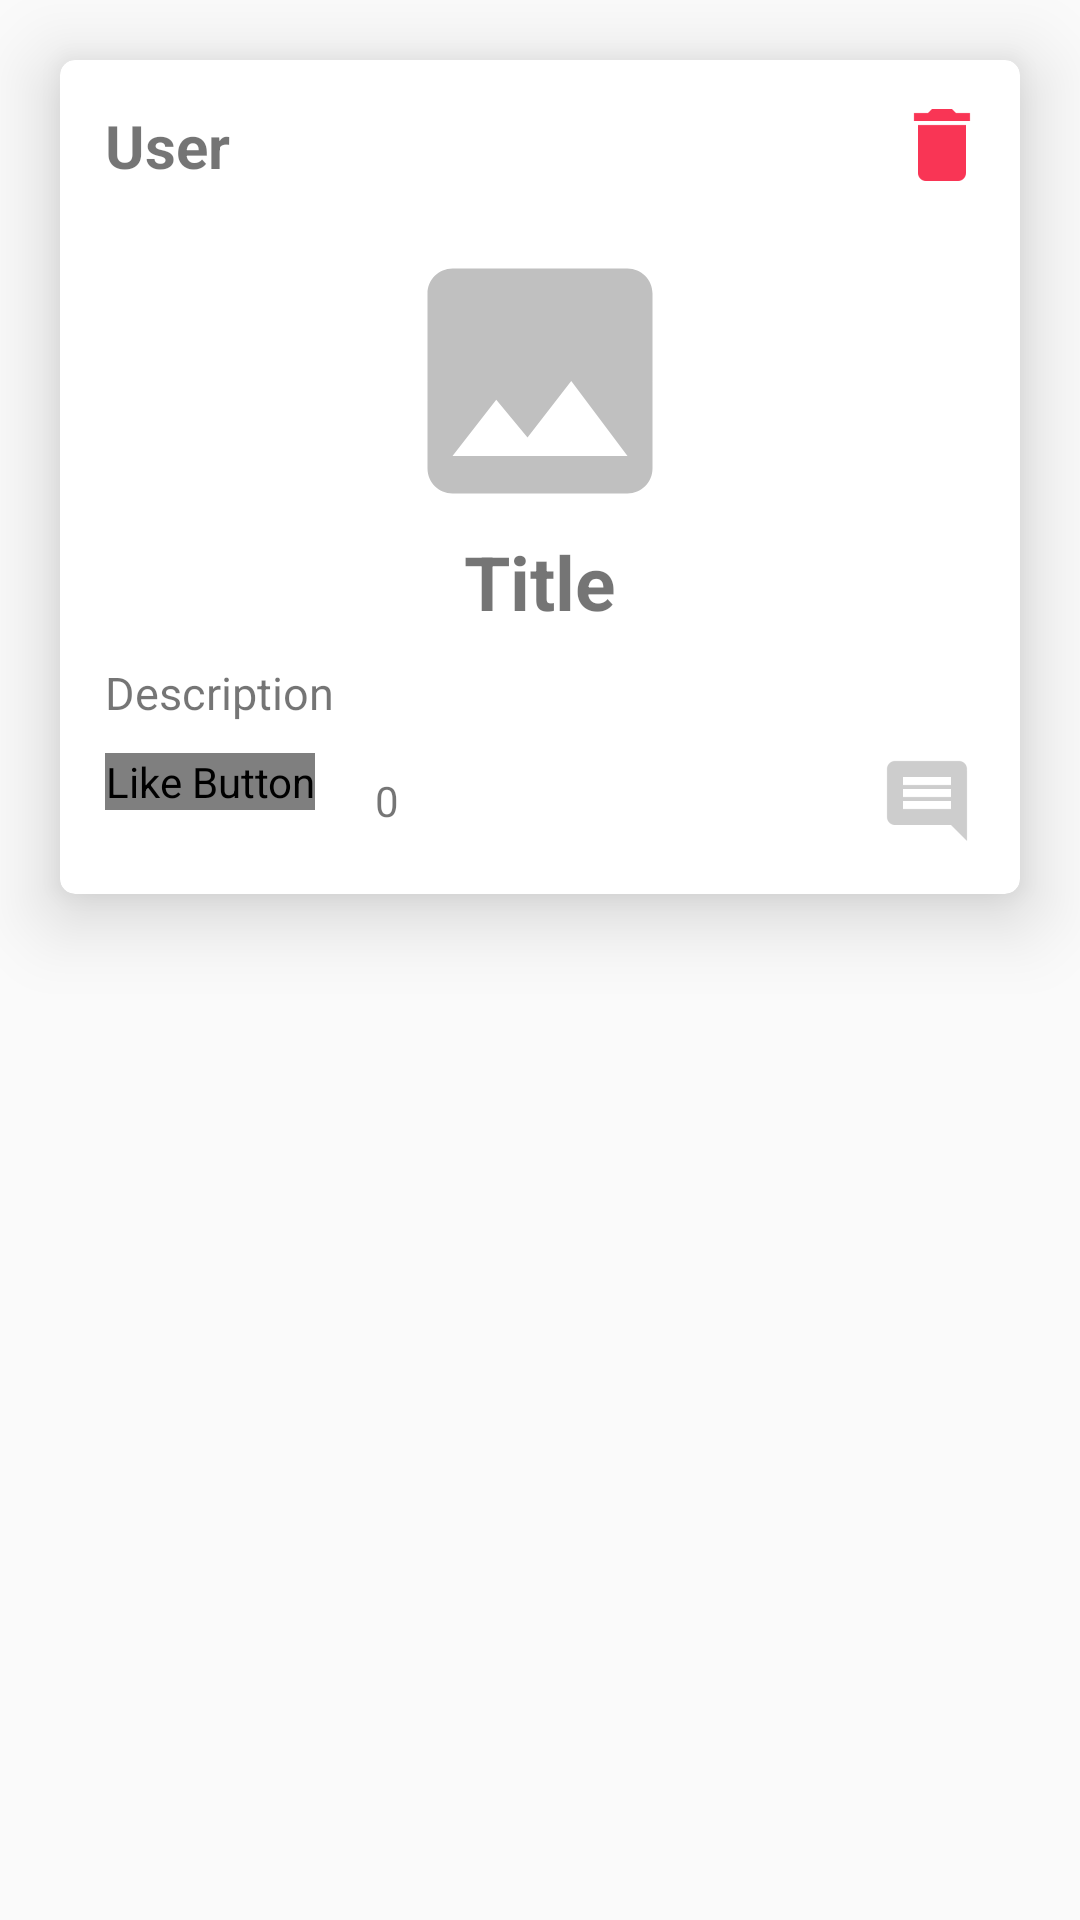

Icons on this 1080 x 1920 Android screen, each with the point to tap as [x,y]:
Comment Button: [927,800]
delete: [942,145]
